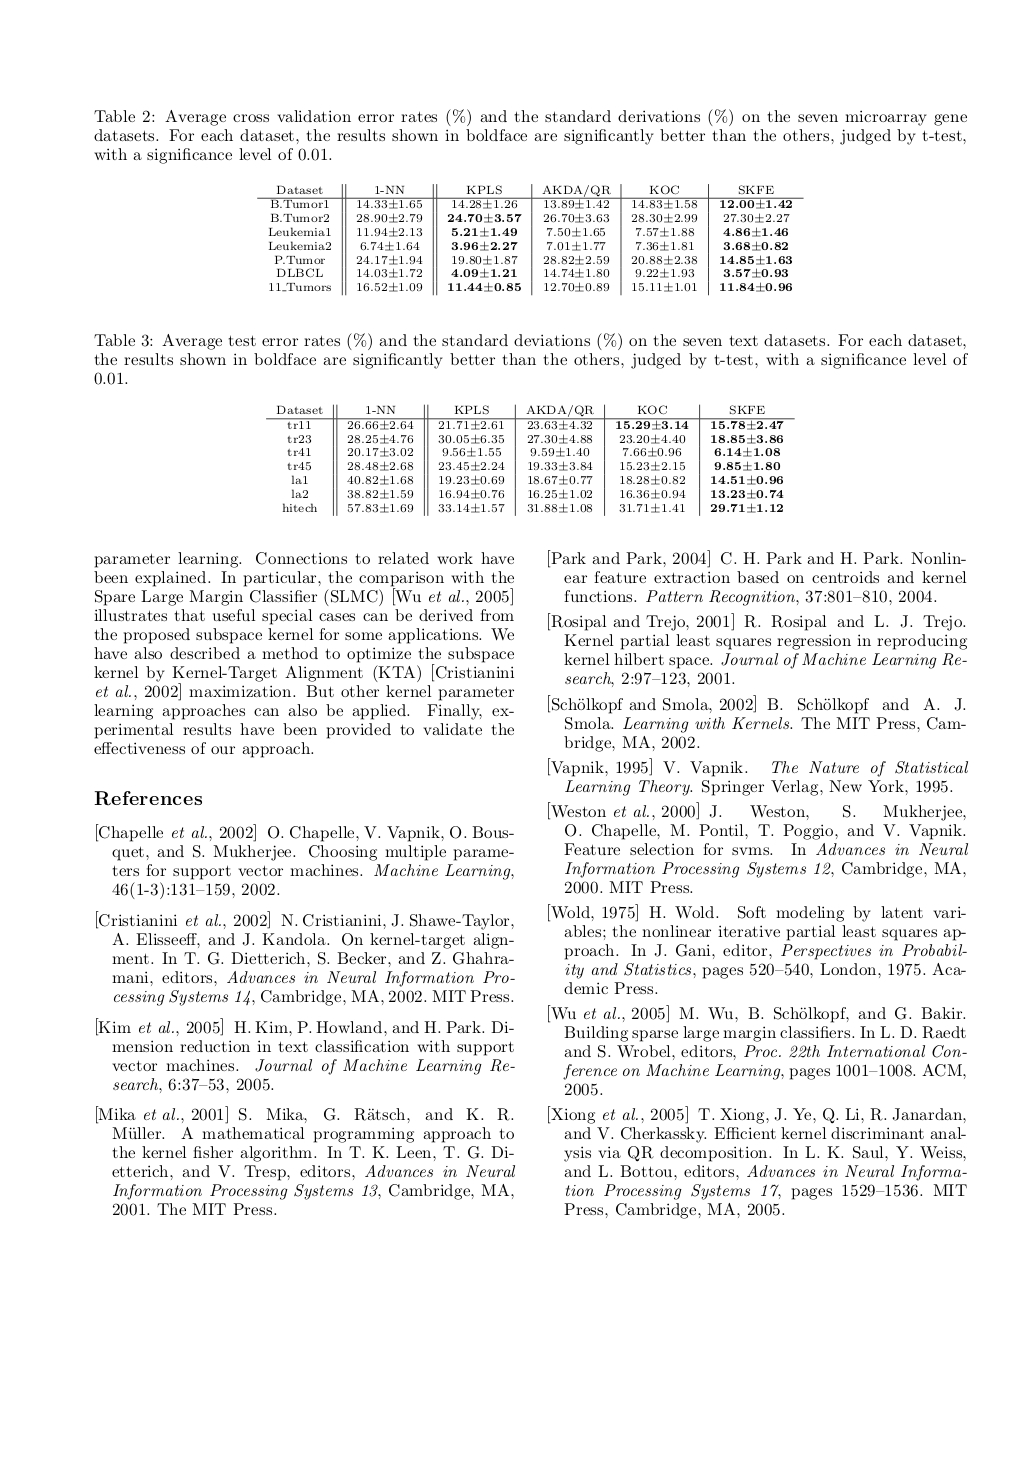Table: (257, 182, 803, 296), (266, 403, 794, 516)
